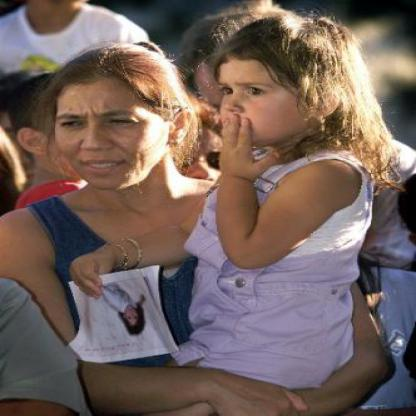face: (49, 52, 174, 191), (206, 26, 330, 147)
